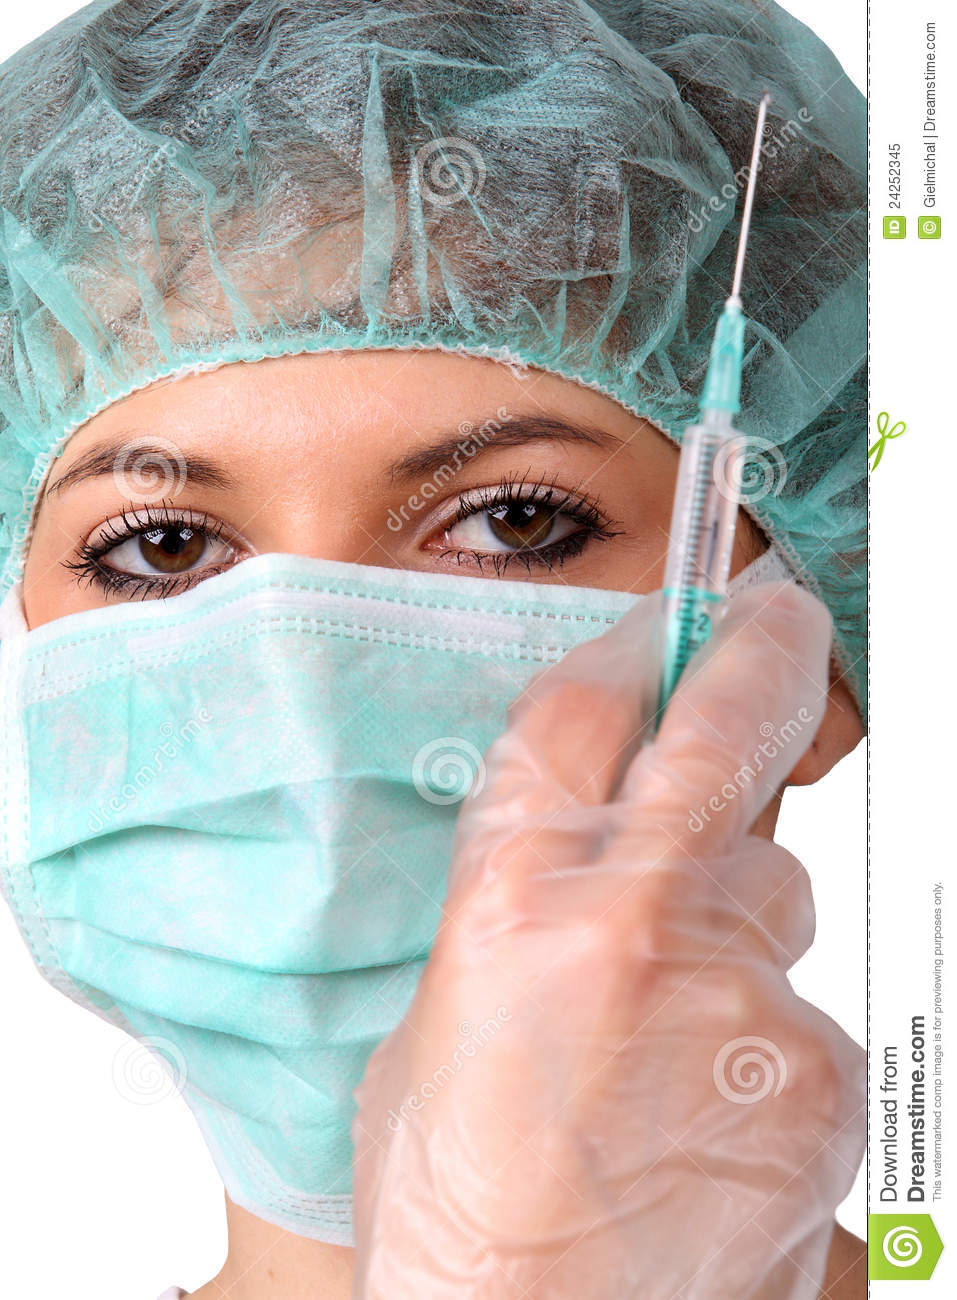mask: (16, 577, 726, 1187)
